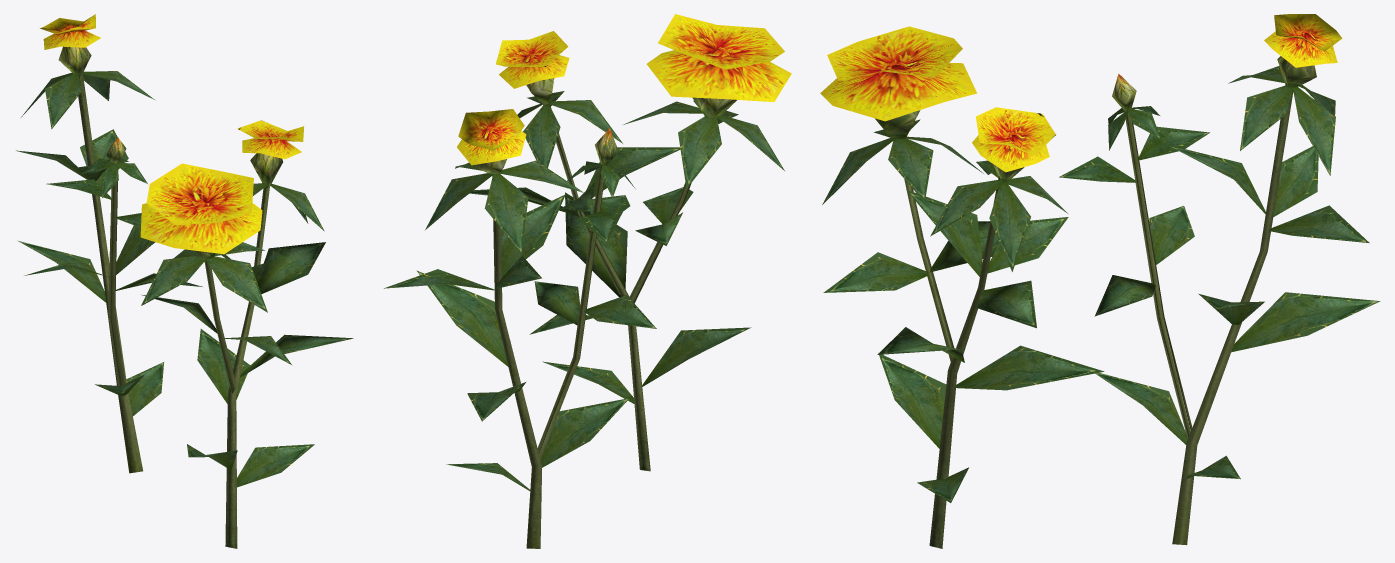
Rendered from Safflower_m.FBX.
The picture shows the model from 3 angles, left to right: view 1: azimuth 30°, elevation 25°; view 2: azimuth 150°, elevation 25°; view 3: azimuth 270°, elevation 25°; orthographic projection. The views are drawn at different scales.
Visible parts, largest first — view 1: Safflower0, Safflower1; view 2: Safflower0, Safflower1; view 3: Safflower0, Safflower1.
Boxes of the visible parts, x1,y1,x2,y2 form: Safflower0: (140, 120, 353, 548); Safflower1: (16, 14, 202, 473); Safflower0: (469, 14, 791, 471); Safflower1: (384, 109, 656, 548); Safflower0: (820, 26, 1104, 548); Safflower1: (1059, 14, 1380, 545).
Size of the model in its own units: 25.63 by 42.68 by 41.71.
